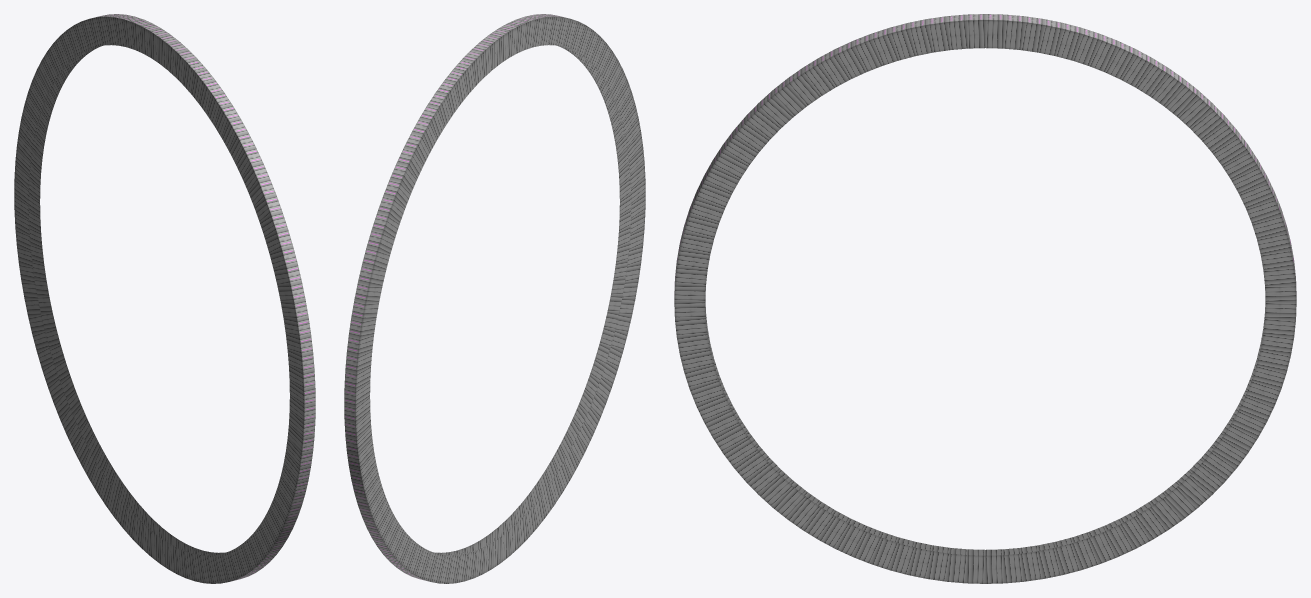
Rendered from Elevator_Wheel.fbx.
3 views of the same model, side by side, from view 1: azimuth 30°, elevation 25°; view 2: azimuth 150°, elevation 25°; view 3: azimuth 270°, elevation 25° (orthographic). The views are drawn at different scales.
Parts seen in each view (by area): view 1: pPipe1; view 2: pPipe1; view 3: pPipe1.
Part boxes in pixels (x1=…): pPipe1: x1=14, y1=14, x2=315, y2=583; pPipe1: x1=344, y1=14, x2=645, y2=583; pPipe1: x1=674, y1=14, x2=1296, y2=583.
Bounding box in the file's own units: 11.96 × 529 × 529.
